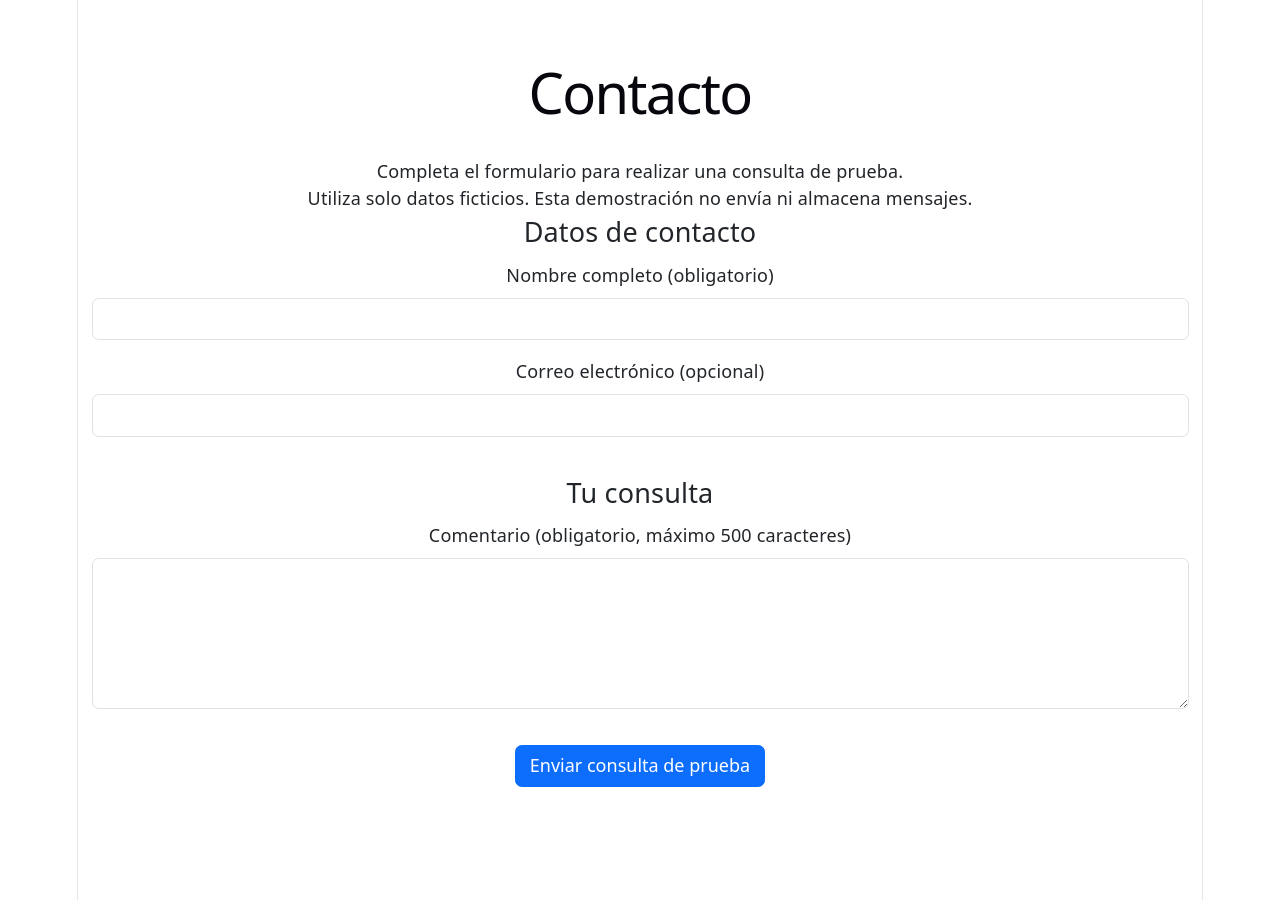
Test case: Contacto › rechaza un correo con formato inválido
This screenshot has width=1280, height=900.
Type "Camila Pérez" into the field labelled "Nombre completo (obligatorio)" at (640, 319), box [92,298,1188,340]
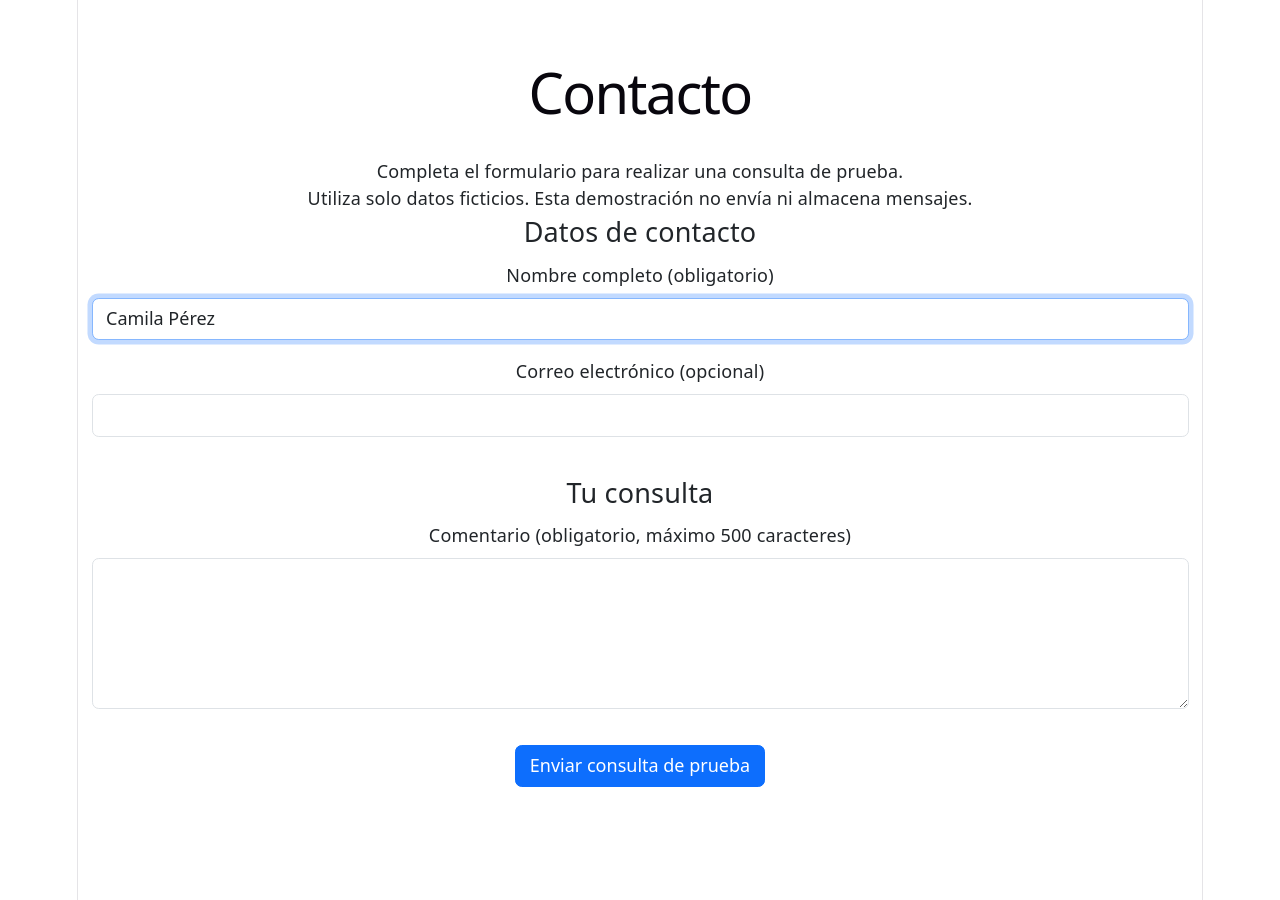
Type "correo-invalido" into the field labelled "Correo electrónico (opcional)" at (640, 415), box [92,394,1188,437]
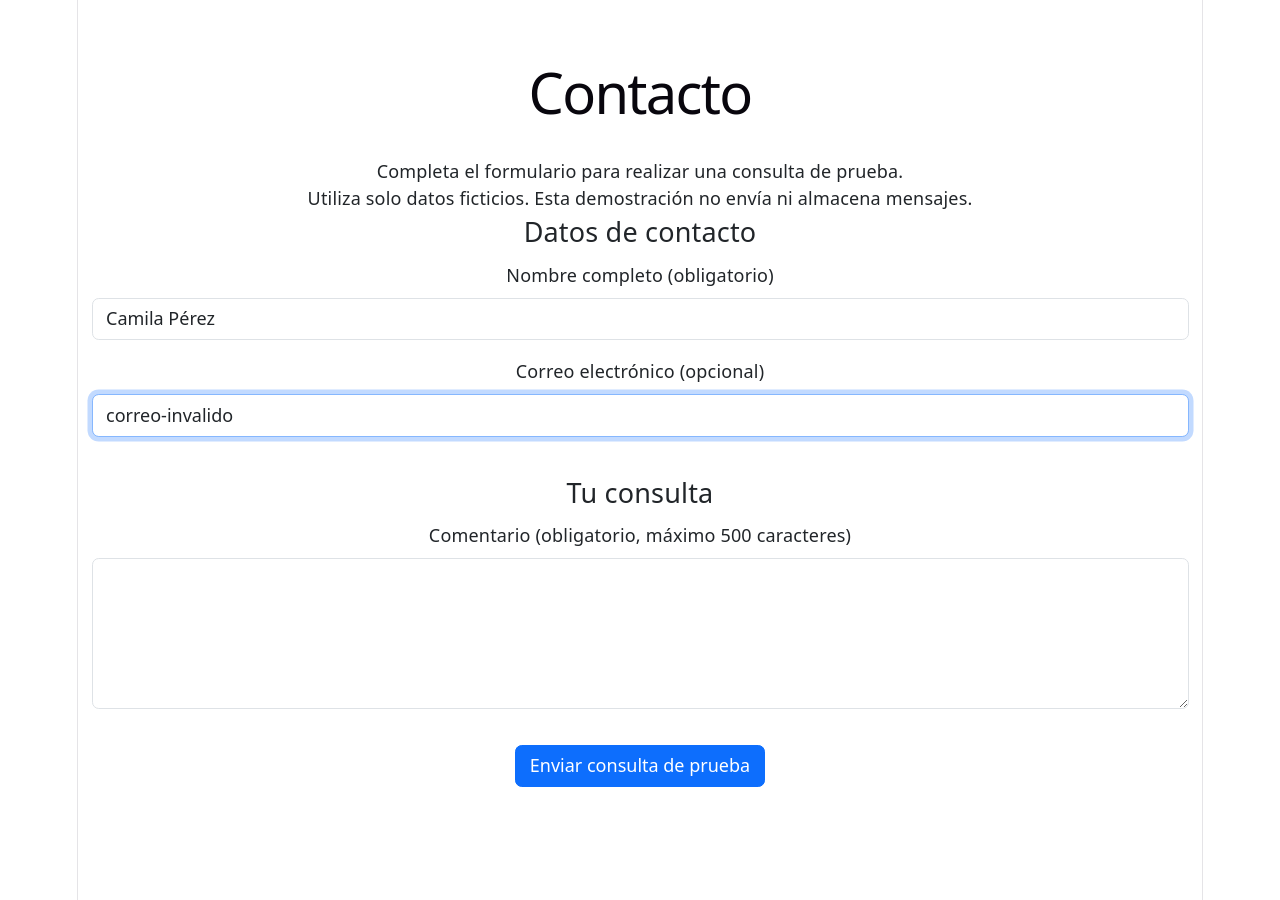
Type "Consulta por vacunación" into the text box labelled "Comentario (obligatorio, máximo 500 caracteres)" at (640, 633), box [92,558,1188,709]
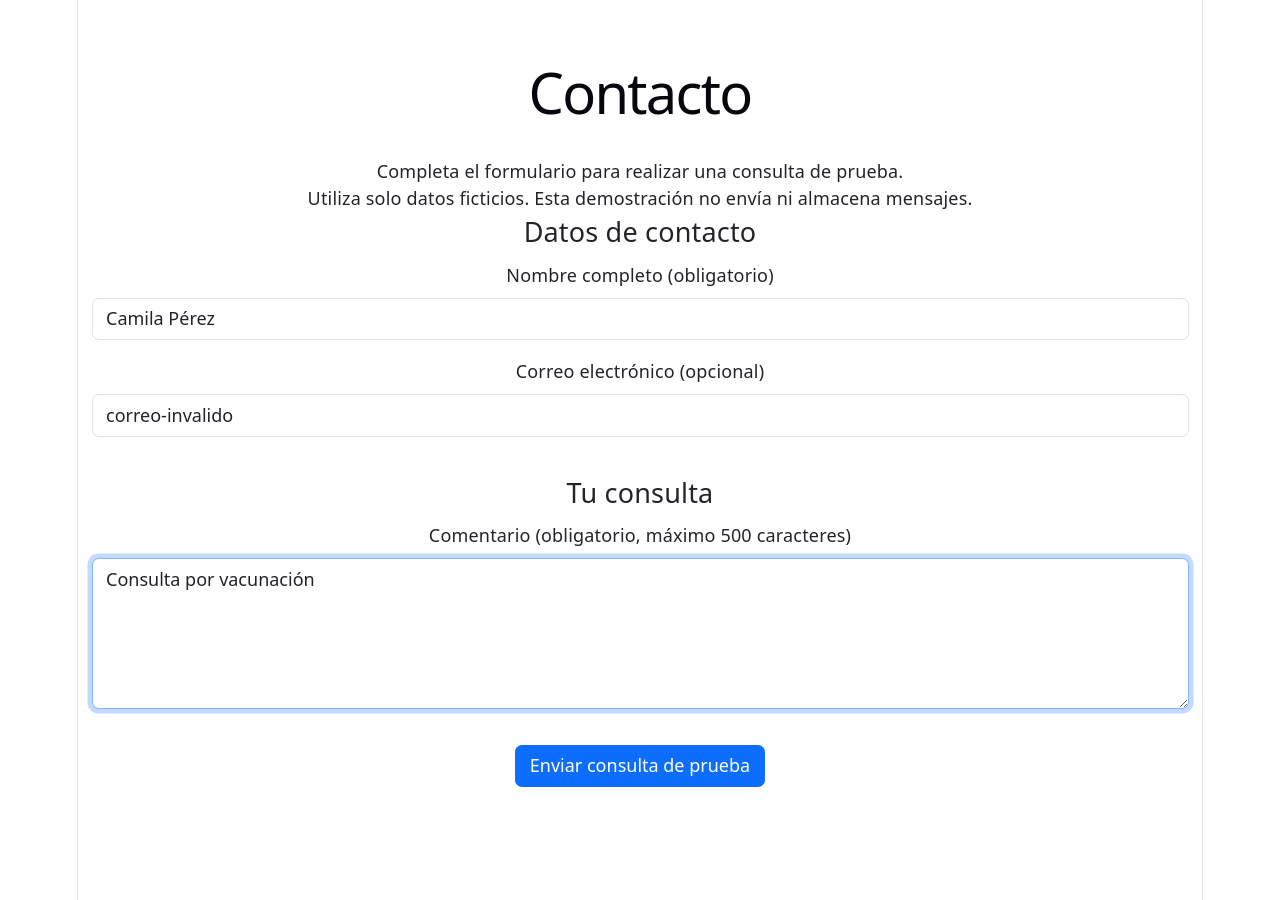
Click the button "Enviar consulta de prueba" at (640, 766), box [515,745,765,787]
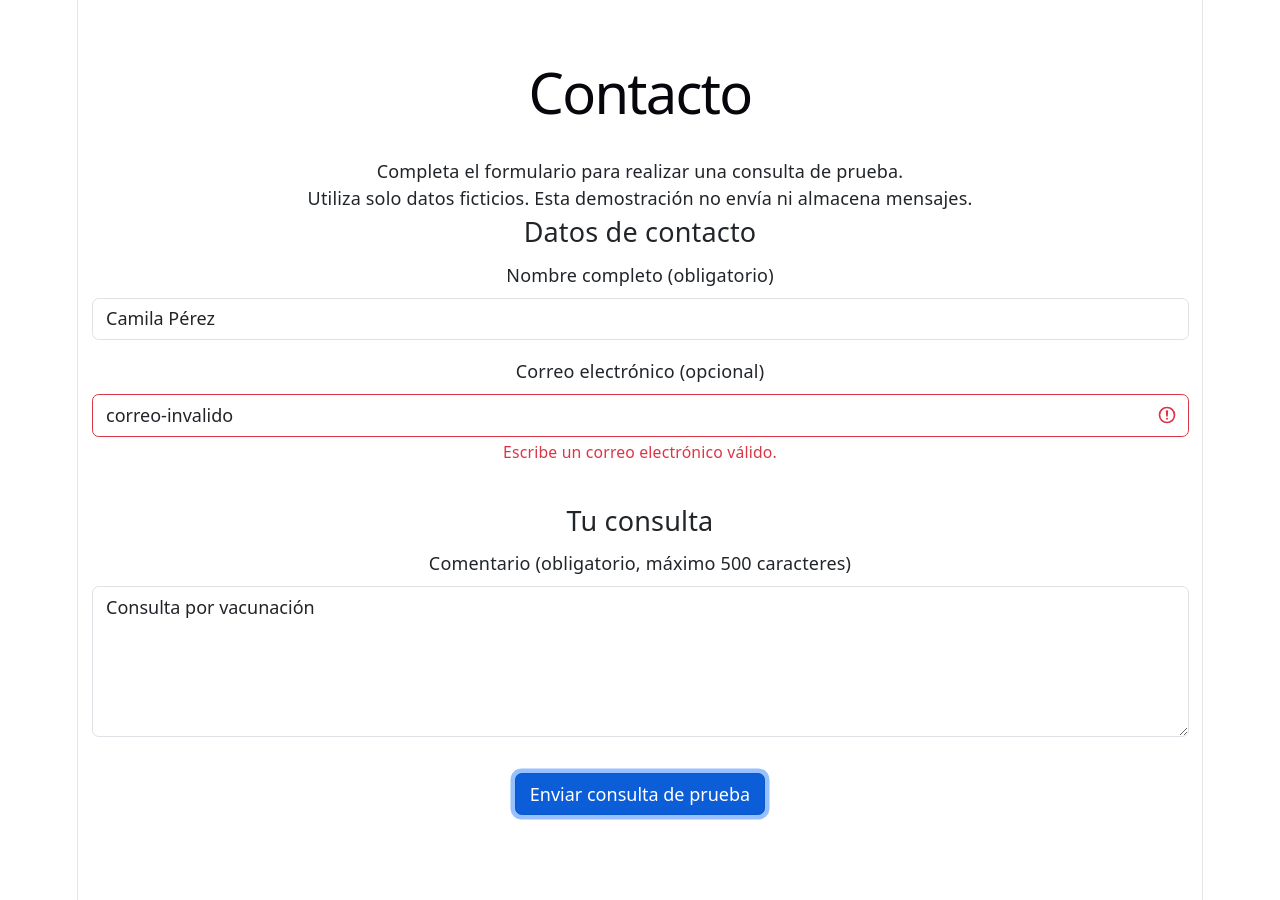
expect the text "Escribe un correo electrónico válido." is shown: met, box [503,441,777,463]
